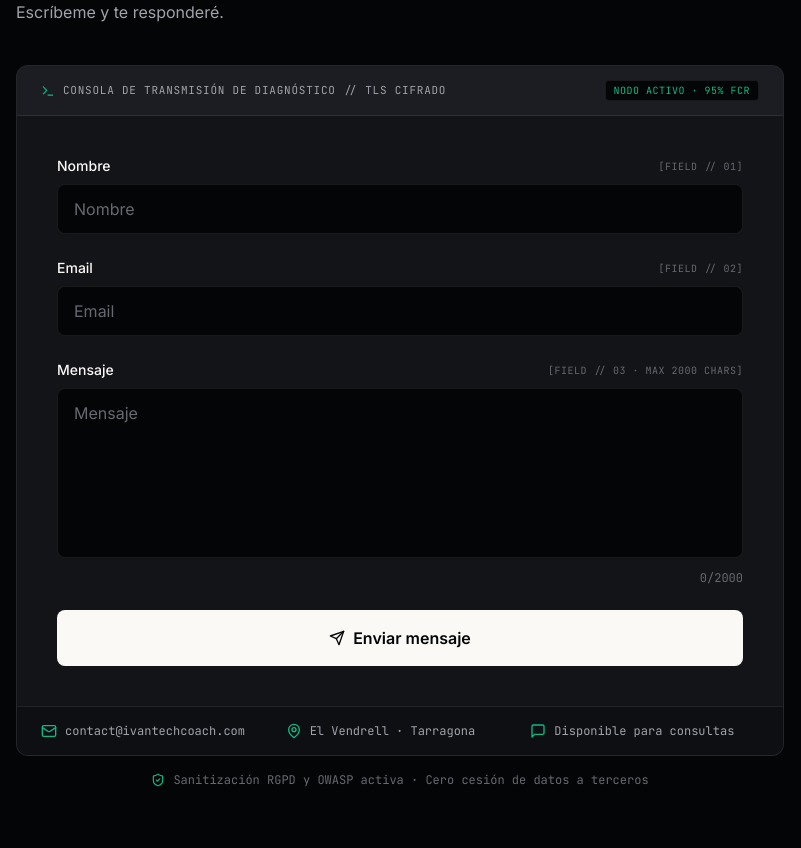
it: ContactForm Component › should validate form fields
(page scrolled)
Click the button "Enviar mensaje" at [400, 638], box [57,610,743,666]
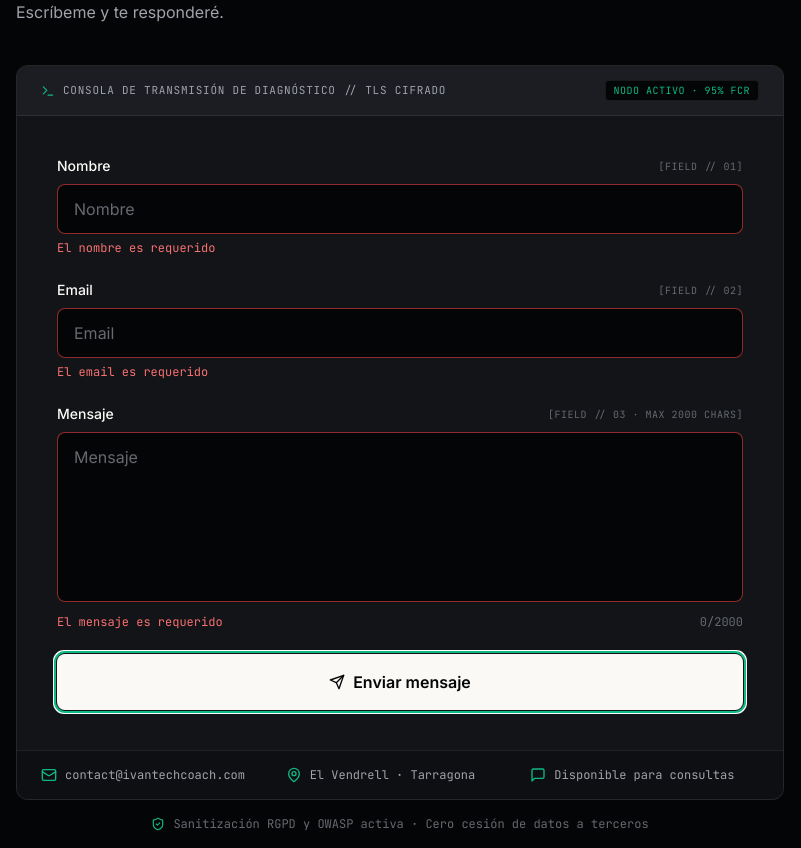
Check: the text "El nombre es requerido" is shown, box [57,240,215,256]
